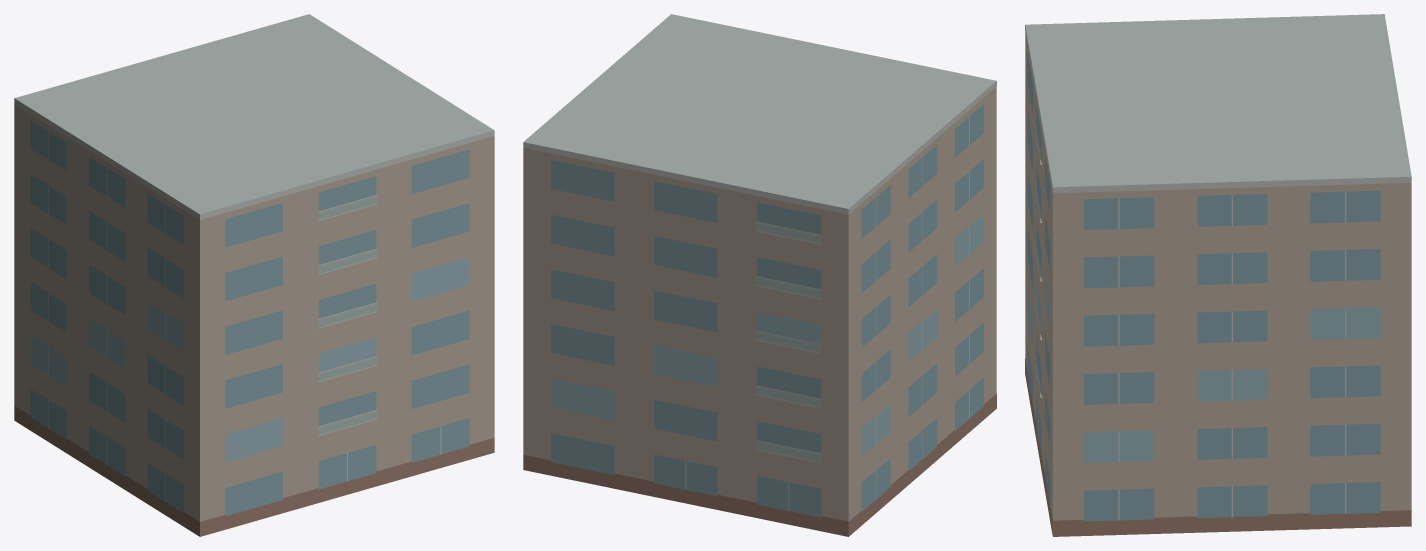
File: survey-upis-32946012.glb
3 views of the same model, side by side, from view 1: azimuth 30°, elevation 25°; view 2: azimuth 150°, elevation 25°; view 3: azimuth 270°, elevation 25° (orthographic). The views are drawn at different scales.
Visible parts, largest first — view 1: survey-upis-32946012.tmp; view 2: survey-upis-32946012.tmp; view 3: survey-upis-32946012.tmp.
Boxes of the visible parts, box(x1,y1,x2,y2) form: survey-upis-32946012.tmp: box(14, 14, 494, 536); survey-upis-32946012.tmp: box(523, 14, 996, 536); survey-upis-32946012.tmp: box(1025, 14, 1411, 536).
Size of the model in its own units: 14.99 by 14.1 by 14.13.
